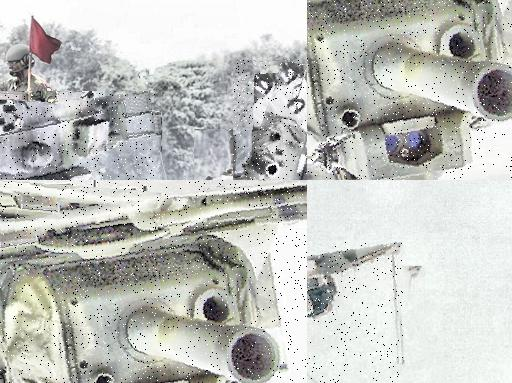tanks: (1, 181, 308, 383), (308, 1, 512, 181), (1, 93, 156, 181), (241, 62, 308, 181), (308, 243, 404, 320)
